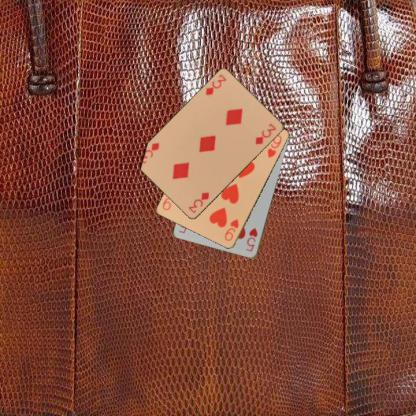3d: (203, 72, 228, 97), (186, 190, 210, 214)
5h: (243, 225, 259, 253)
9h: (222, 216, 240, 243)
